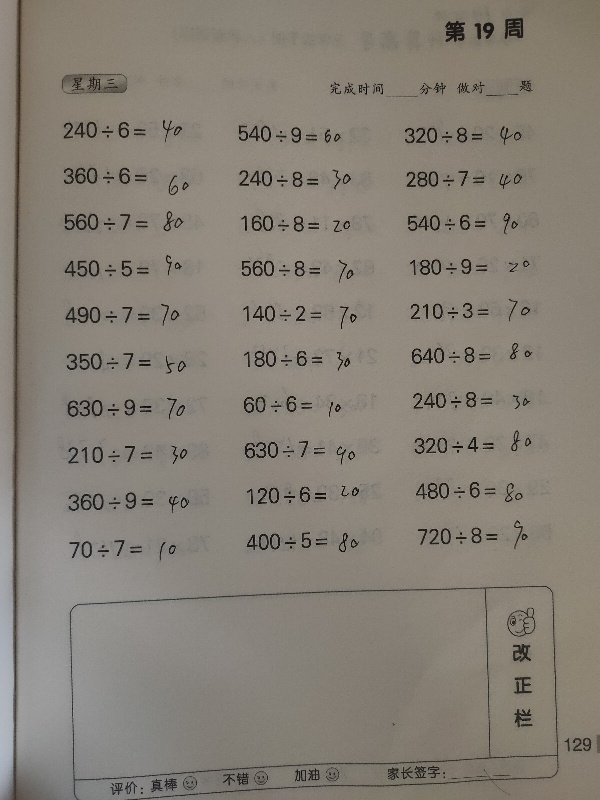equation: (51, 102, 198, 151), (229, 372, 365, 423), (50, 156, 200, 202), (236, 425, 366, 476), (393, 291, 559, 330), (398, 377, 541, 419), (232, 244, 377, 282), (57, 533, 187, 575), (401, 246, 551, 282), (238, 162, 371, 201), (226, 294, 370, 329), (415, 518, 535, 560), (58, 395, 197, 431), (57, 483, 203, 517), (62, 345, 192, 383), (234, 335, 373, 370), (397, 115, 544, 148), (230, 113, 369, 147), (401, 162, 539, 196), (235, 528, 369, 563), (56, 250, 193, 284), (55, 441, 198, 473), (404, 428, 543, 460), (413, 474, 532, 510), (57, 298, 189, 330), (397, 343, 552, 368), (237, 207, 363, 237), (401, 209, 529, 238), (58, 209, 195, 236), (235, 480, 363, 506)
